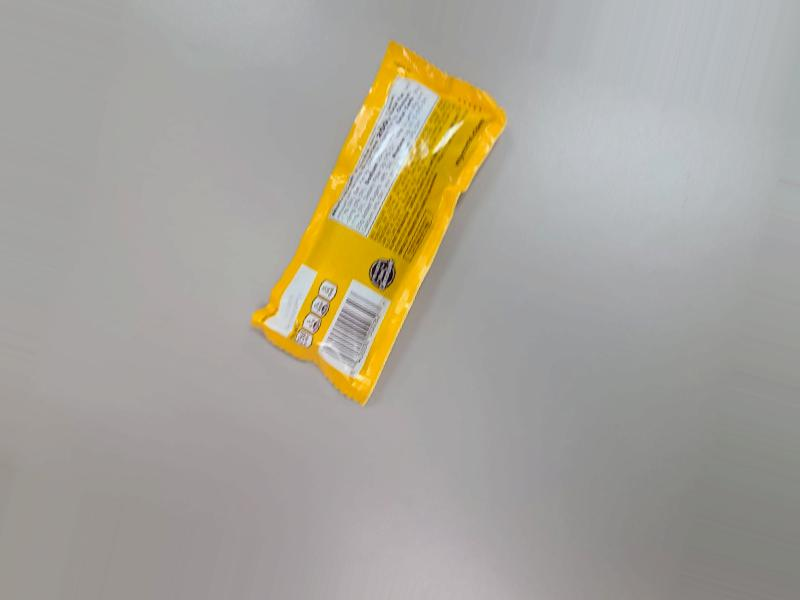m&m: (278, 43, 508, 408)
